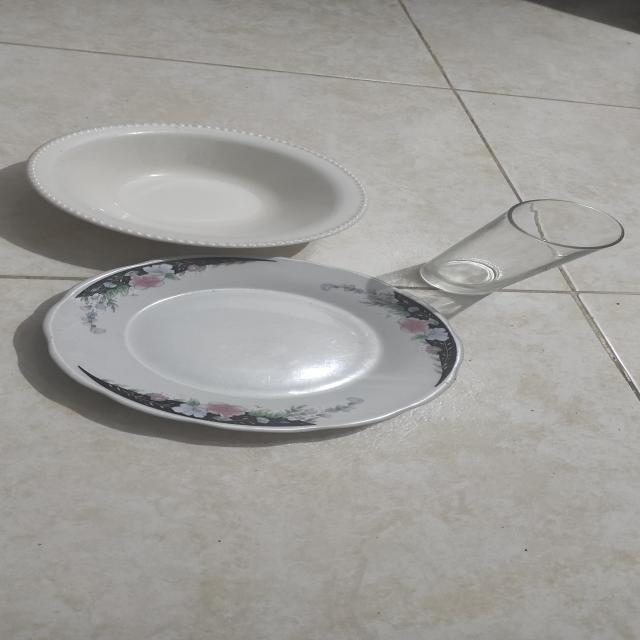non-organic waste: (25, 249, 523, 444), (0, 119, 443, 254)
